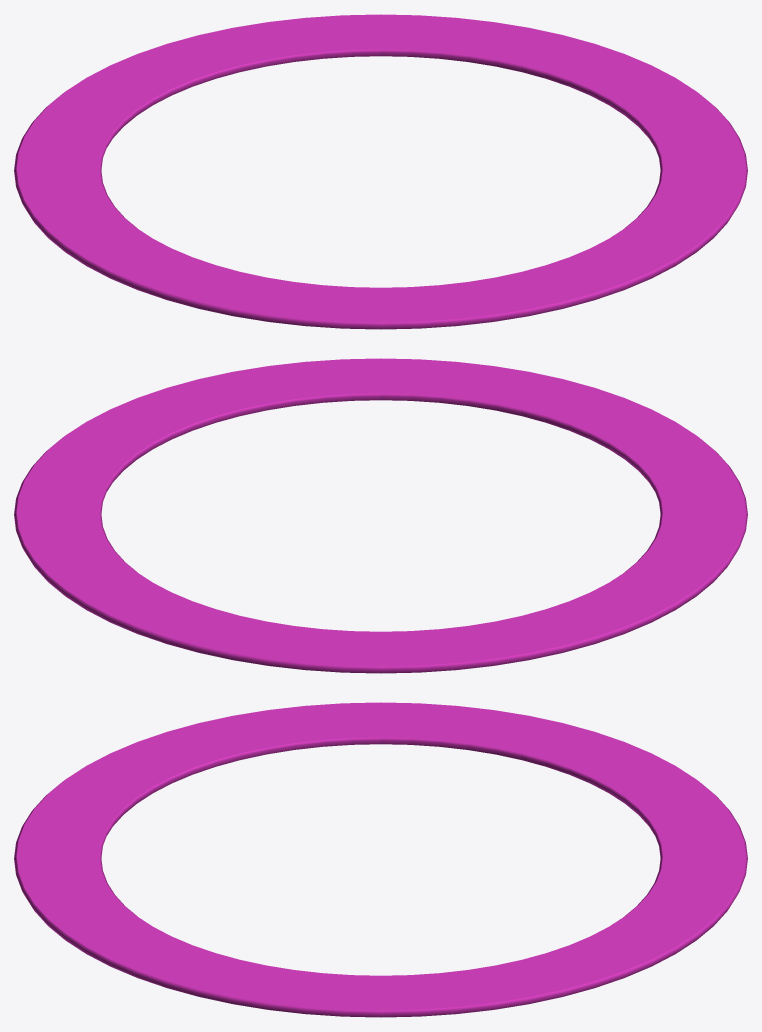
File: Code_Cylinder_03.fbx
The picture shows the model from 3 angles, top to bottom: view 1: azimuth 30°, elevation 25°; view 2: azimuth 150°, elevation 25°; view 3: azimuth 270°, elevation 25°; orthographic projection.
Visible parts, largest first — view 1: Code_Cylinder_03; view 2: Code_Cylinder_03; view 3: Code_Cylinder_03.
Boxes of the visible parts, x1=… form: Code_Cylinder_03: x1=14, y1=14, x2=747, y2=329; Code_Cylinder_03: x1=14, y1=358, x2=747, y2=673; Code_Cylinder_03: x1=14, y1=702, x2=747, y2=1017.
Bounding box in the file's own units: 127 × 1.34 × 127.
